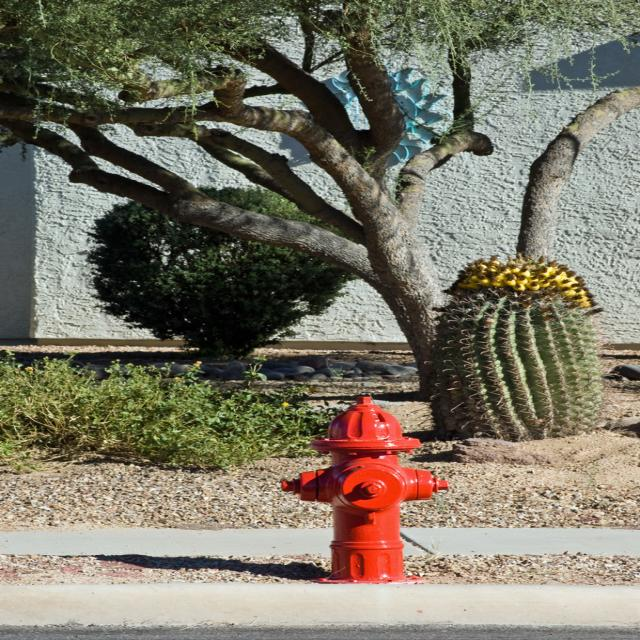fire_hydrant: (281, 396, 449, 584)
